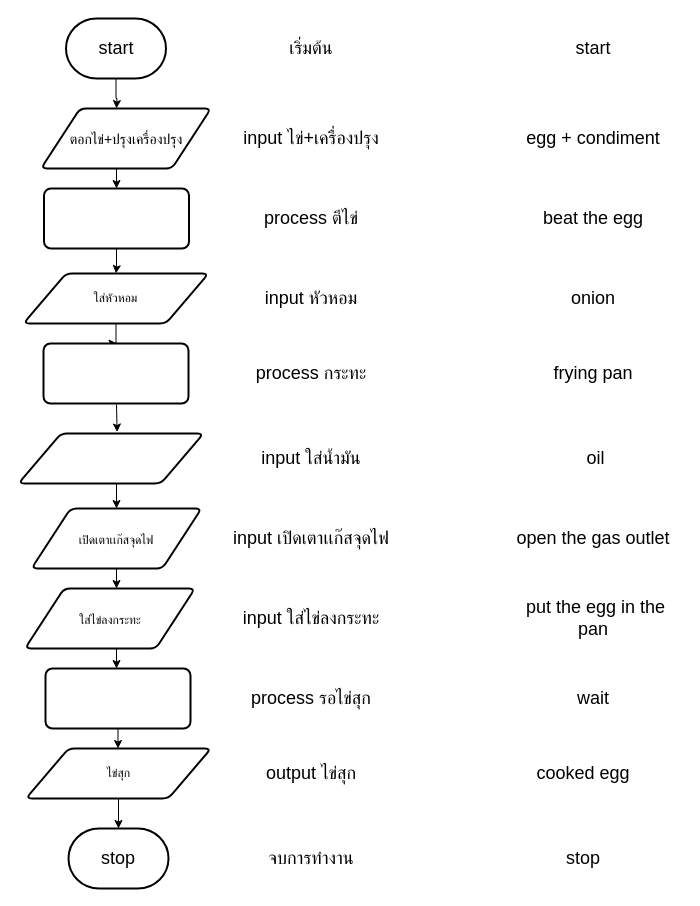
Image size: 700x906. Some labels were removed from this diagram. Here are the shapes that lost their labels. From the top down, the centre of each, then its label:
(116,218): ตีไข่
(115,373): เตรียมกระทะ
(110,458): ใส่น้ำมัน
(117,698): รอไข่สุก
